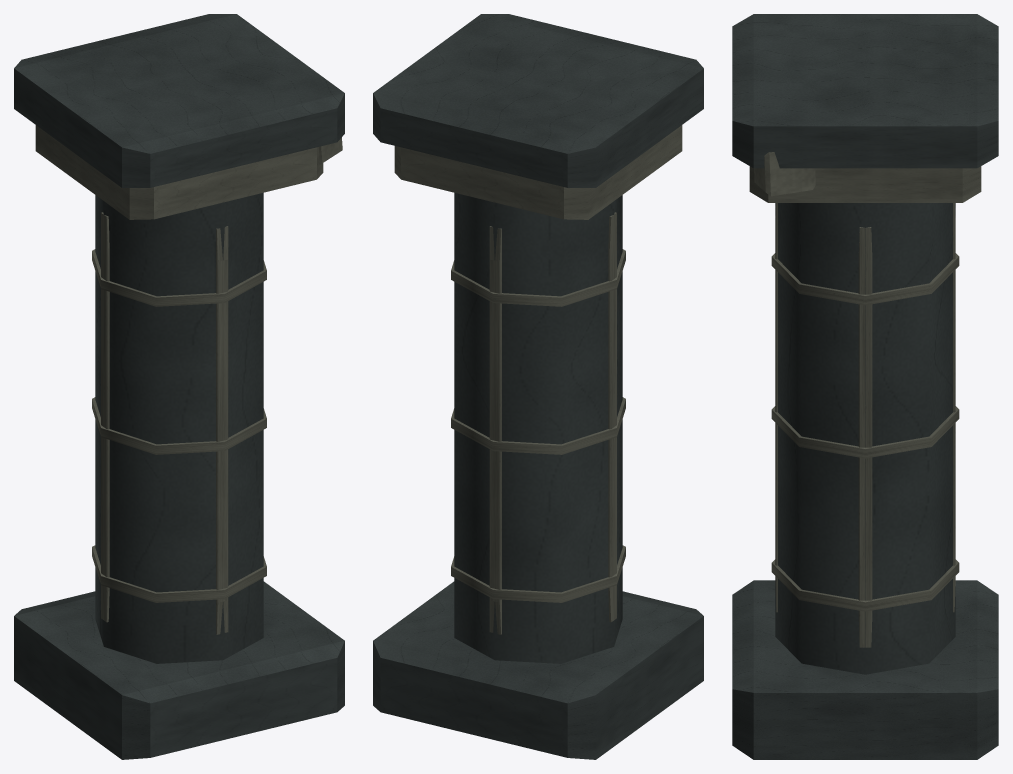
Rendered from pillar.glb.
3 views of the same model, side by side, from view 1: azimuth 30°, elevation 25°; view 2: azimuth 150°, elevation 25°; view 3: azimuth 270°, elevation 25° (orthographic). The views are drawn at different scales.
Visible parts, largest first — view 1: pillar-shaft, pillar-crown, pillar-plinth, pillar-capital, pillar-flute (×2), shaft-course (×3); view 2: pillar-shaft, pillar-crown, pillar-plinth, pillar-capital, pillar-flute (×2), shaft-course (×3); view 3: pillar-shaft, pillar-crown, pillar-plinth, pillar-flute (×3), shaft-course (×3), pillar-capital, broken-capital-chip.
Boxes of the visible parts, x1=… form: pillar-shaft: x1=95, y1=192, x2=263, y2=663; pillar-crown: x1=14, y1=14, x2=344, y2=187; pillar-plinth: x1=14, y1=581, x2=344, y2=759; pillar-capital: x1=35, y1=125, x2=323, y2=219; pillar-flute (×2): x1=101, y1=212, x2=228, y2=634; shaft-course (×3): x1=92, y1=249, x2=266, y2=602; pillar-shaft: x1=454, y1=192, x2=622, y2=663; pillar-crown: x1=373, y1=14, x2=703, y2=187; pillar-plinth: x1=373, y1=581, x2=703, y2=759; pillar-capital: x1=394, y1=125, x2=682, y2=219; pillar-flute (×2): x1=489, y1=212, x2=616, y2=634; shaft-course (×3): x1=451, y1=249, x2=625, y2=602; pillar-shaft: x1=775, y1=203, x2=955, y2=674; pillar-crown: x1=732, y1=14, x2=998, y2=168; pillar-plinth: x1=732, y1=580, x2=998, y2=759; pillar-flute (×3): x1=775, y1=203, x2=955, y2=647; shaft-course (×3): x1=771, y1=253, x2=959, y2=611; pillar-capital: x1=749, y1=166, x2=981, y2=202; broken-capital-chip: x1=754, y1=152, x2=815, y2=196.
Bounding box in the file's own units: 1.18 × 3.02 × 1.15.
2 materials, 2 textured.
